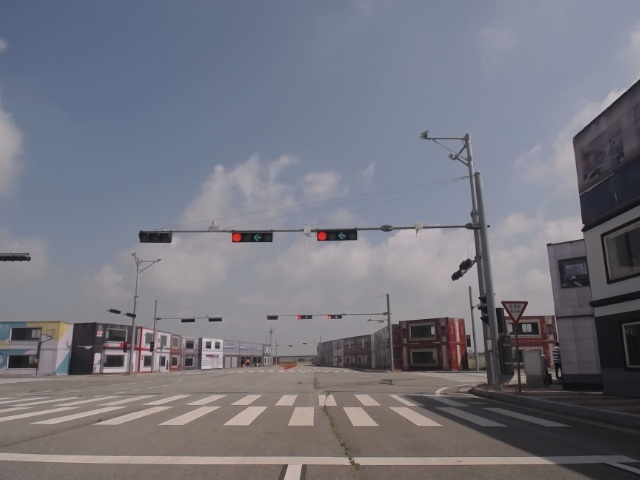left_green_4: (232, 230, 273, 242), (316, 230, 358, 241)
